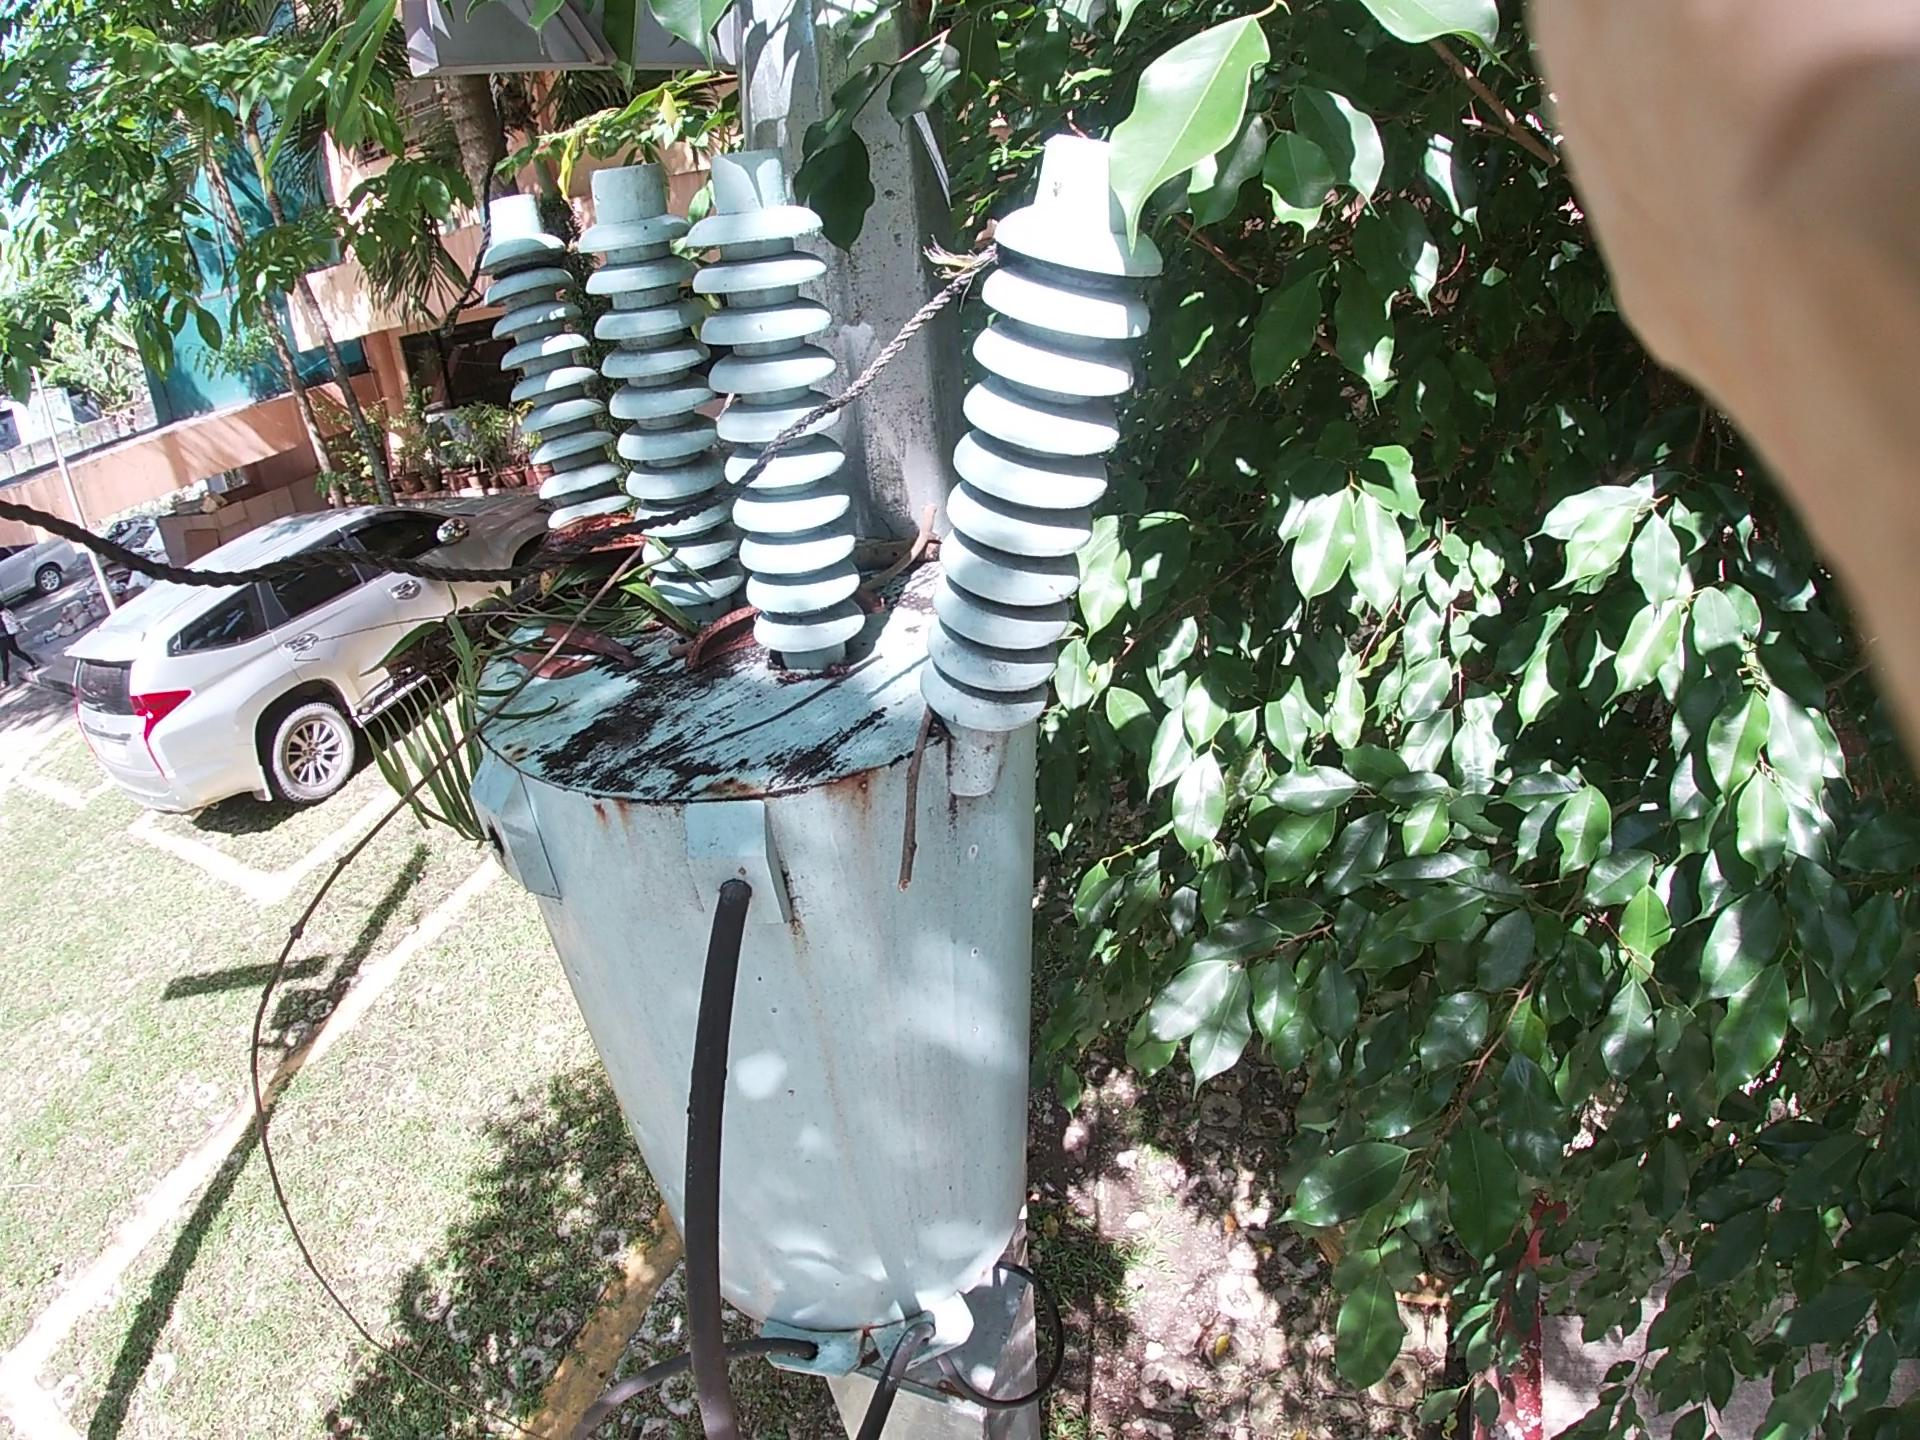branch with leaves: (398, 383, 854, 673)
leaf: (514, 584, 655, 722)
mahogany fruit: (531, 466, 697, 632), (677, 563, 822, 697)
tree branch: (169, 513, 661, 1063), (698, 510, 930, 691), (890, 620, 939, 892)
